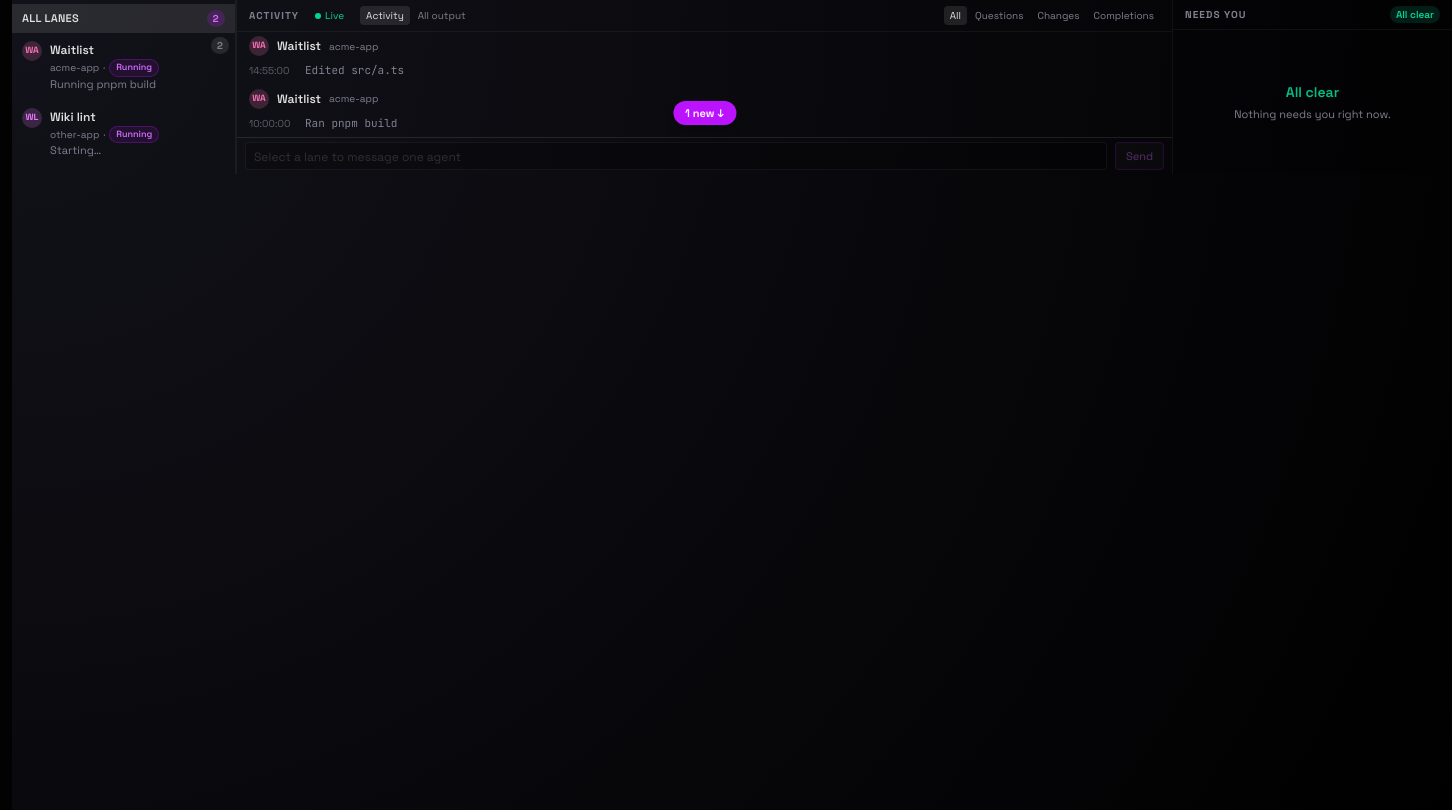
Test: ActivityFeed follow › resumes following once the new-rows pill is clicked, and does not re-arm on the next row
What coordinates should you click on to do the following:
click the button "1 new ↓"
I would click on:
 (704, 113)
Its box is [673,100,736,125].
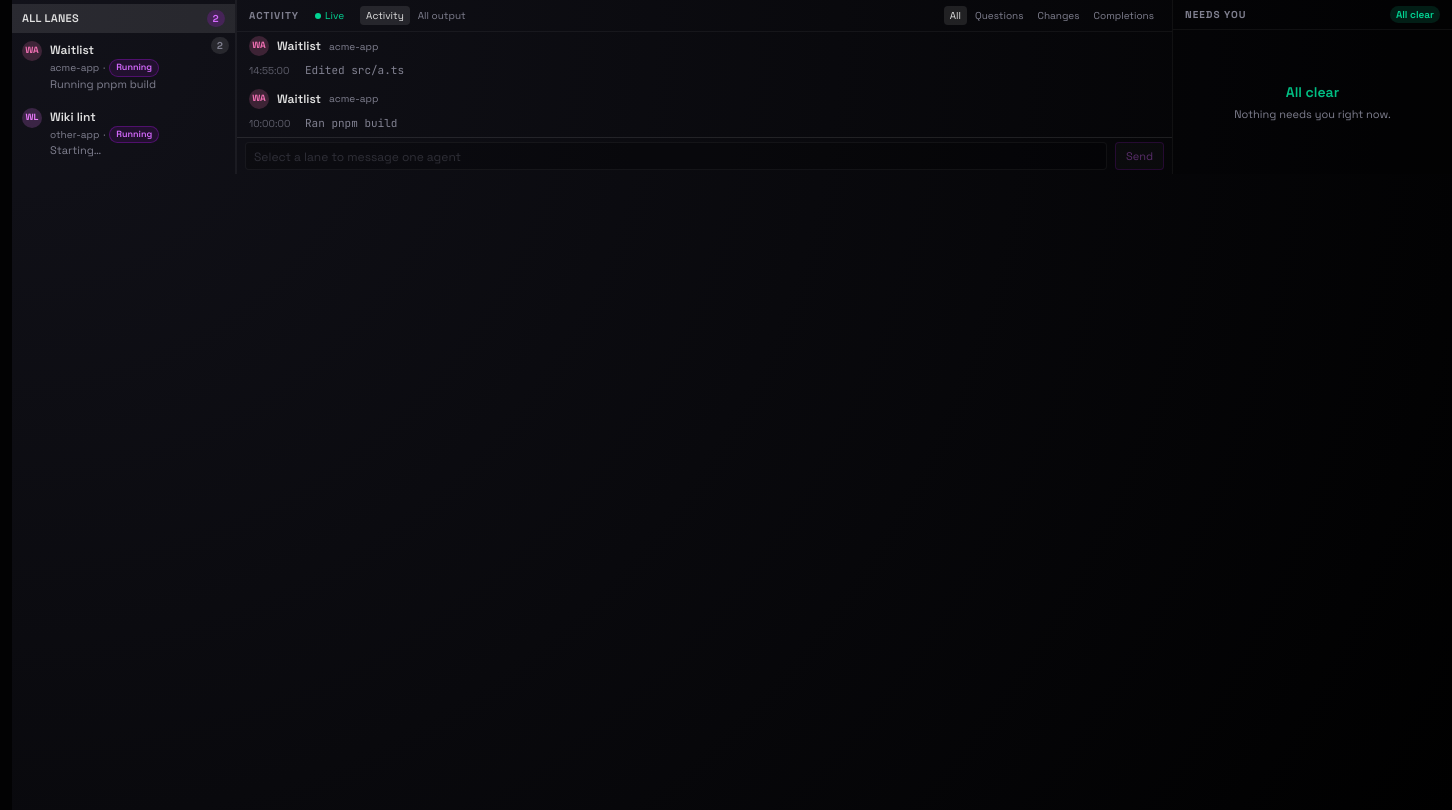
Expected: the button "new ↓" is gone
